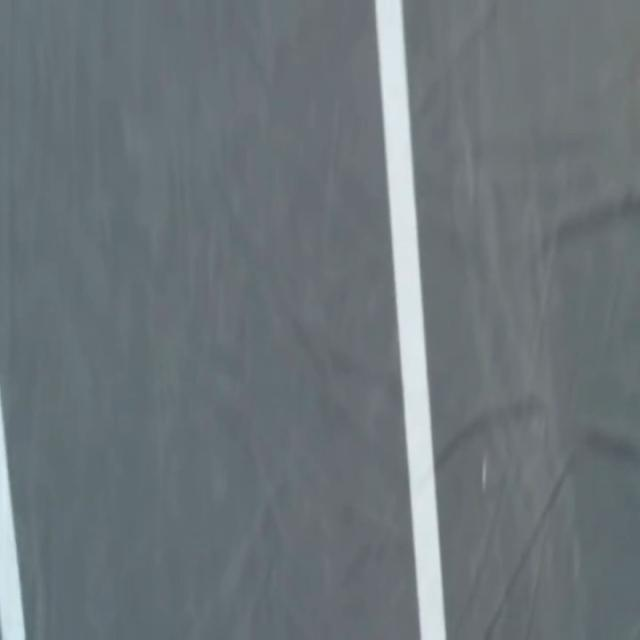center: (375, 0, 445, 639)
left: (0, 394, 25, 639)
